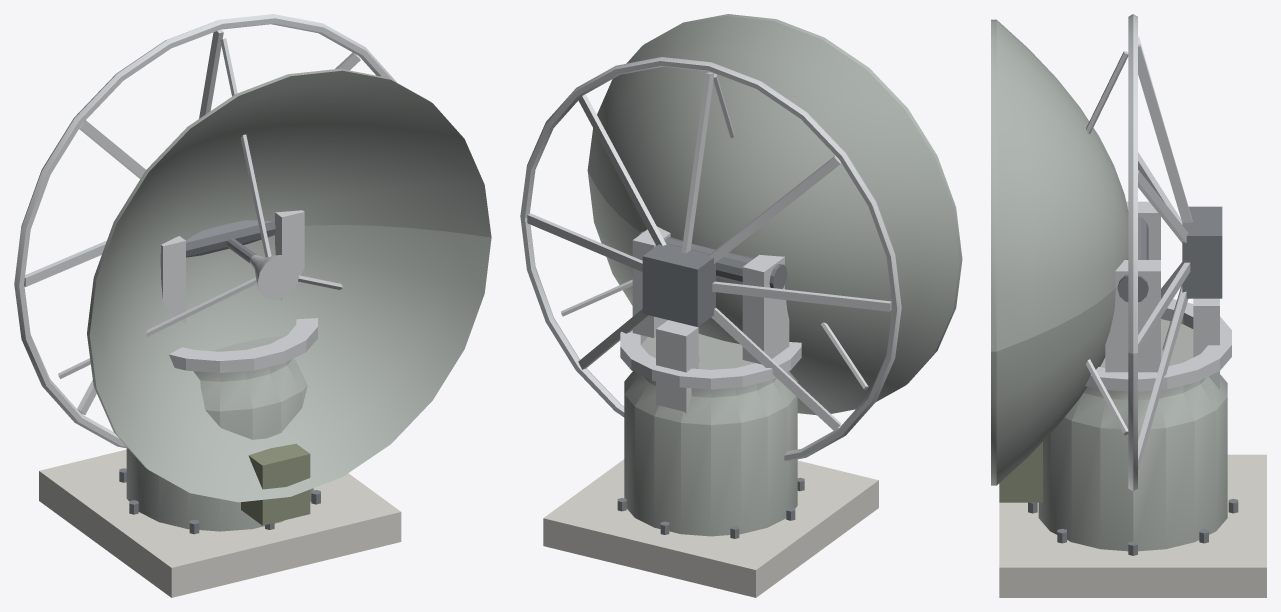
File: cold-war-missile-silo-and-command-bunker-parabolic-rad-00f7da73__15672.glb
The picture shows the model from 3 angles, left to right: view 1: azimuth 30°, elevation 25°; view 2: azimuth 150°, elevation 25°; view 3: azimuth 270°, elevation 25°; orthographic projection. The views are drawn at different scales.
Visible parts, largest first — view 1: dish (×2), parabolic-radar-dish; view 2: dish (×3), parabolic-radar-dish; view 3: dish (×3), parabolic-radar-dish.
Part boxes in pixels (x1,y1,x2,y2): dish (×2): (14, 14, 491, 502); parabolic-radar-dish: (39, 210, 401, 597); dish (×3): (520, 14, 962, 461); parabolic-radar-dish: (543, 226, 878, 597); dish (×3): (991, 14, 1222, 490); parabolic-radar-dish: (999, 201, 1266, 597).
Size of the model in its own units: 4.3 by 5.01 by 2.48.
